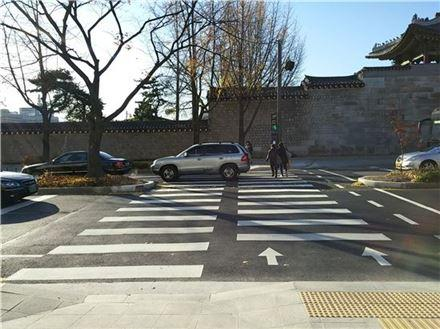crosswalk: (10, 161, 402, 284)
